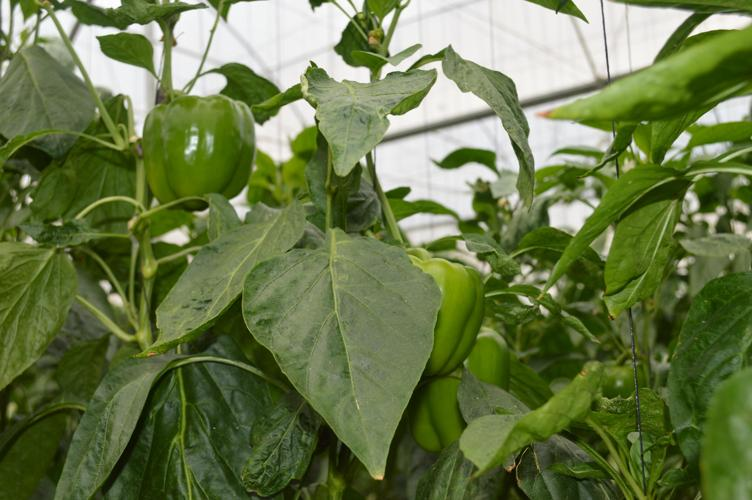BellPepper: (136, 98, 254, 210), (402, 332, 507, 444), (401, 259, 484, 370)
